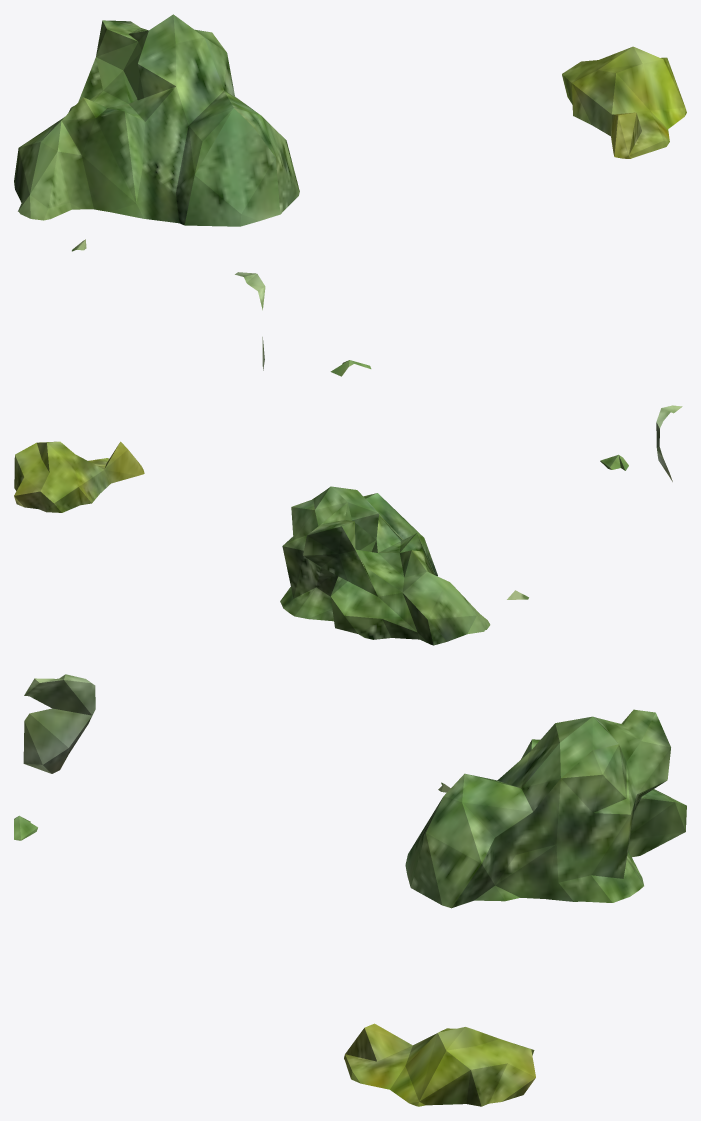
3 renders of one model, top to bottom at view 1: azimuth 30°, elevation 25°; view 2: azimuth 150°, elevation 25°; view 3: azimuth 270°, elevation 25°, orthographic. The views are drawn at different scales.
Size of the model in its own units: 17.46 by 3.98 by 15.29.
Materials: 1 (1 with a texture image).
